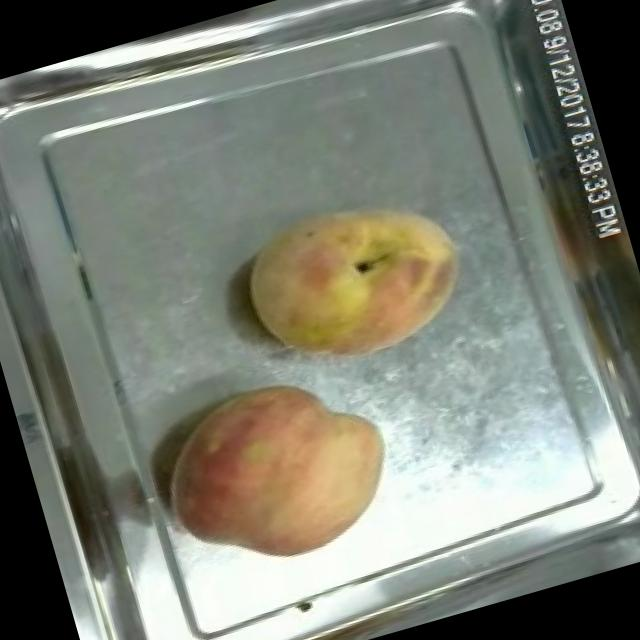Fruit: (135, 350, 414, 596), (222, 167, 486, 393)
